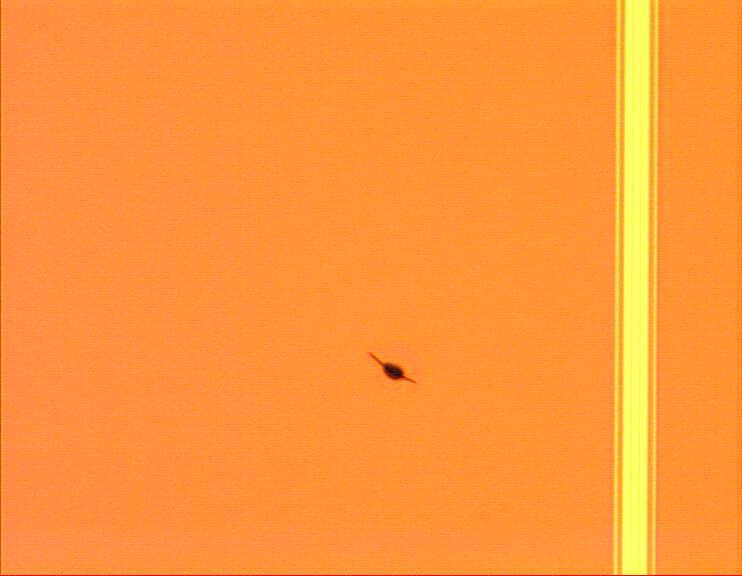PIQ PARTICLE: (364, 347, 424, 388)
